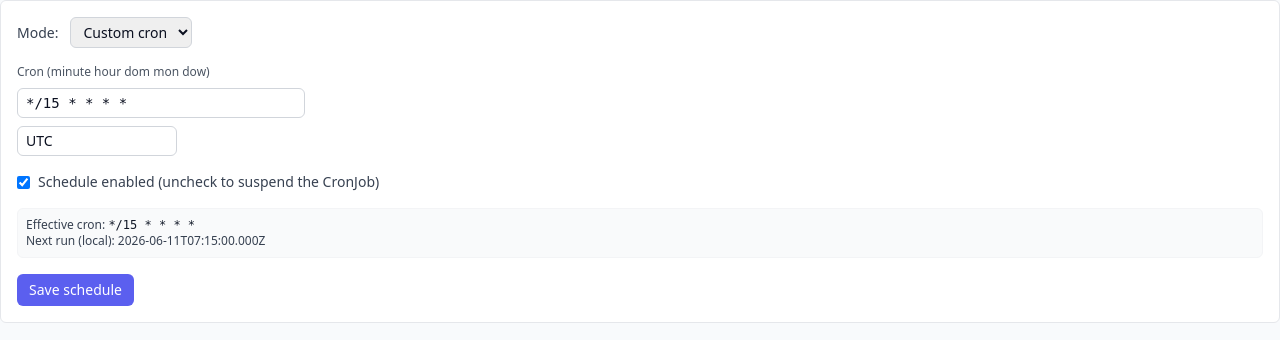
Test: ScheduleEditor › disables save when custom cron is invalid
Check: the button with test id "schedule-save" is enabled, box [17, 274, 134, 306]
Replace the text in the field with test id "schedule-cron" with "this is not a cron" at [161, 103], box [17, 88, 305, 118]
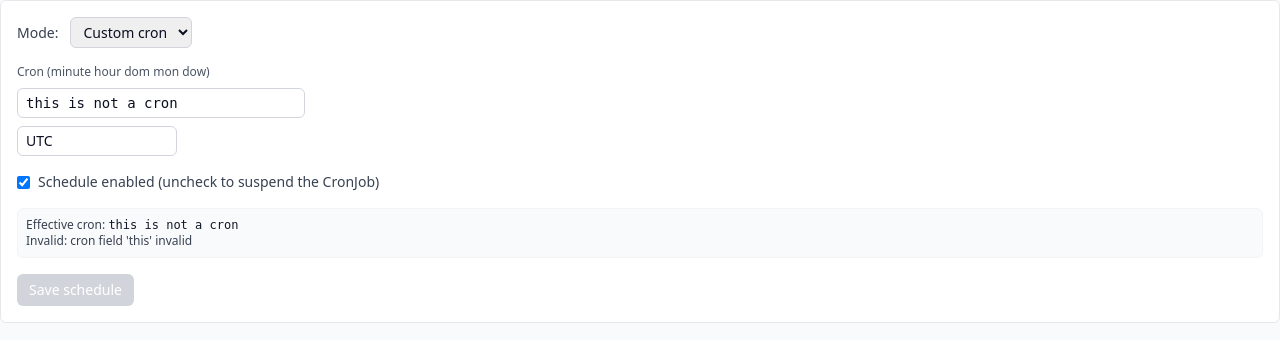
Check: the button with test id "schedule-save" is disabled, box [17, 274, 134, 306]
Check: the text with test id "schedule-next-run" shows "Invalid:", box [26, 232, 192, 249]
